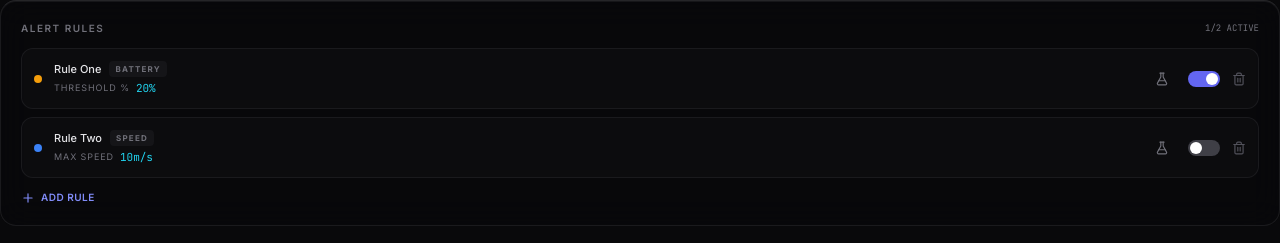
Test: AlertRulesConfig › removes a custom rule
Step 1. Click the button named "Remove alert rule Rule One" → (1239, 78), box [1232, 72, 1246, 86]
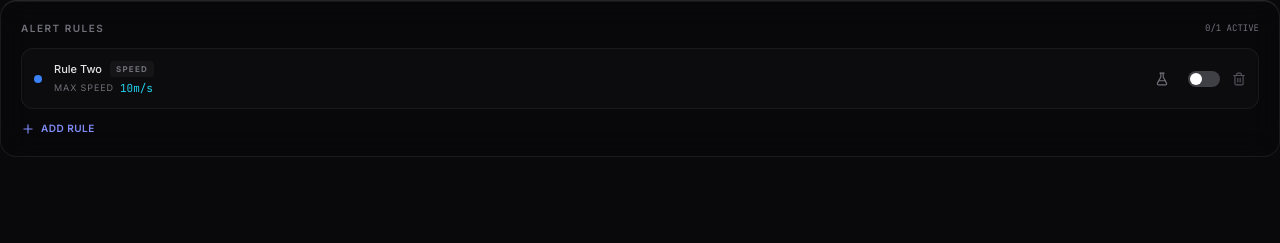
Now the text "Rule One" is gone
